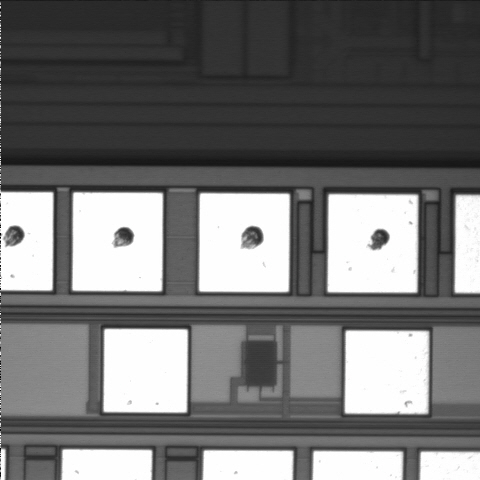pad: (199, 193, 290, 292), (73, 193, 163, 291), (328, 194, 418, 292), (104, 329, 188, 412), (345, 331, 429, 414)
